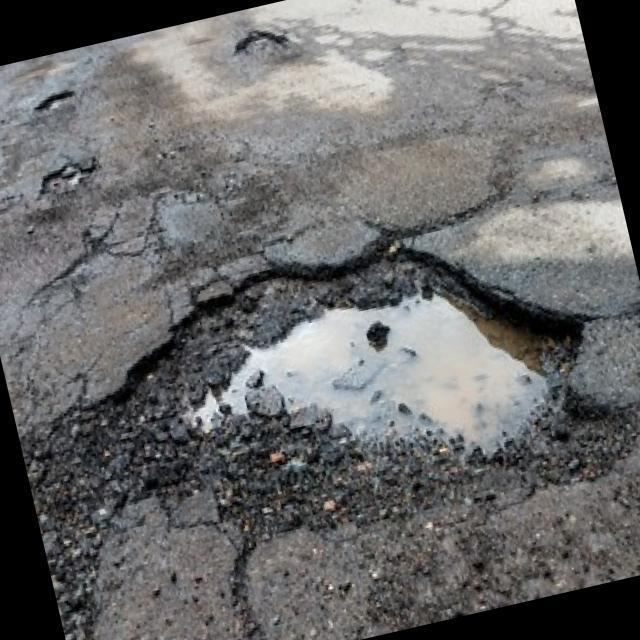pothole: (92, 191, 640, 579), (30, 156, 102, 198), (233, 22, 288, 65), (30, 88, 76, 112)
